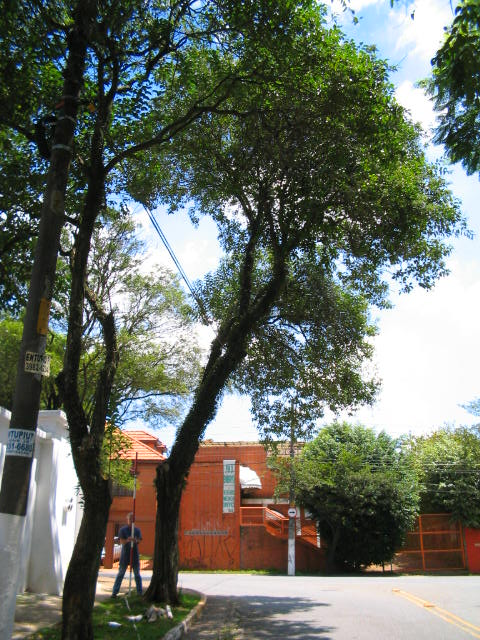crown: (119, 5, 472, 306)
stem: (144, 367, 234, 604)
stick: (126, 452, 142, 597)
tree: (117, 3, 468, 604)
